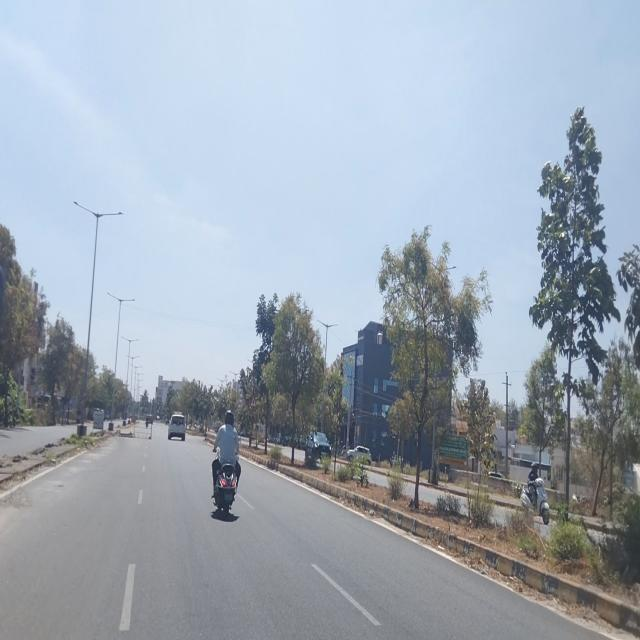bien_cam: (250, 396, 256, 408)
